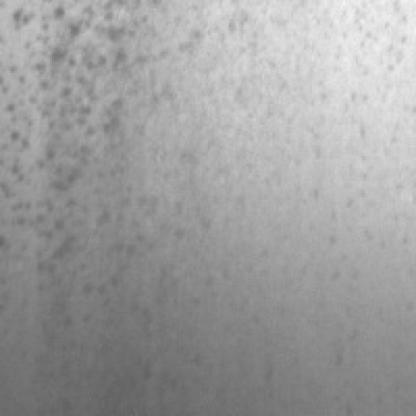pitted_surface: (0, 0, 212, 279), (241, 0, 403, 110)
